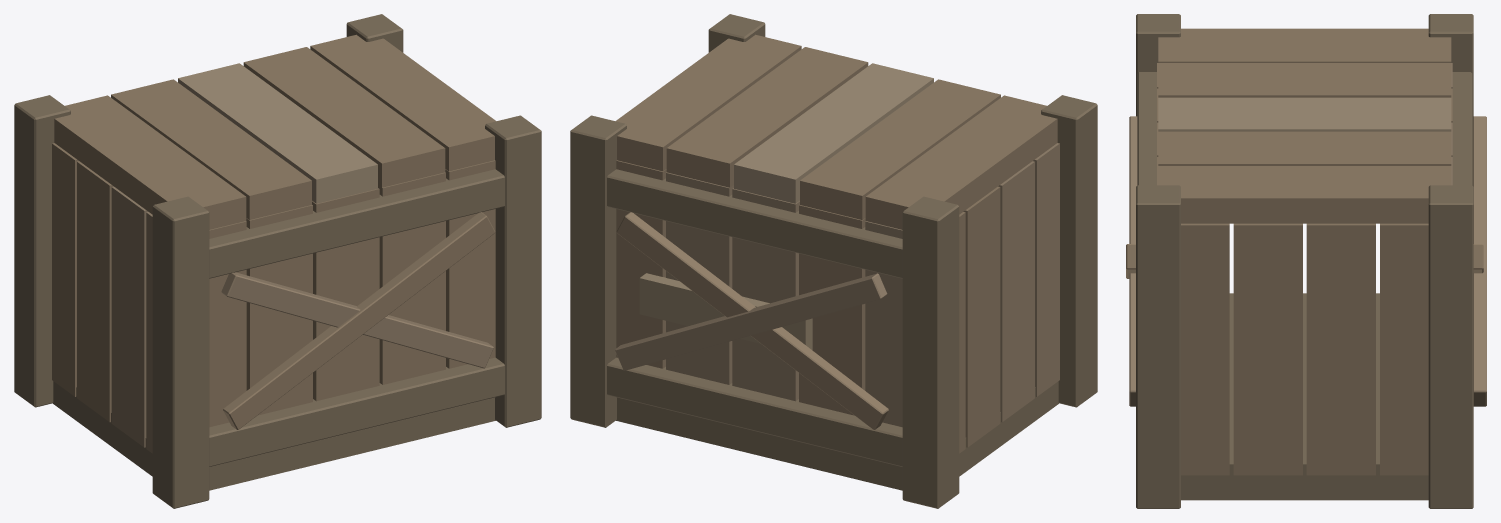
File: env_crate_v01_cross_braced.glb
3 views of the same model, side by side, from view 1: azimuth 30°, elevation 25°; view 2: azimuth 150°, elevation 25°; view 3: azimuth 270°, elevation 25° (orthographic). The views are drawn at different scales.
Parts seen in each view (by area): view 1: material_0, material_2, material_5, material_1; view 2: material_2, material_0, material_5, material_1, material_6; view 3: material_0, material_2, material_1, material_5.
Part boxes in pixels (<box>): material_0: <box>52,34,496,466</box>; material_2: <box>14,14,541,508</box>; material_5: <box>111,186,493,453</box>; material_1: <box>178,63,377,203</box>; material_2: <box>570,14,1097,508</box>; material_0: <box>615,34,1057,457</box>; material_5: <box>615,143,1059,466</box>; material_1: <box>734,63,933,203</box>; material_6: <box>639,273,812,349</box>; material_0: <box>1126,28,1483,475</box>; material_2: <box>1136,14,1473,508</box>; material_1: <box>1158,97,1451,131</box>; material_5: <box>1129,63,1486,406</box>.
Bounding box in the file's own units: 0.8 × 0.6 × 0.641.
